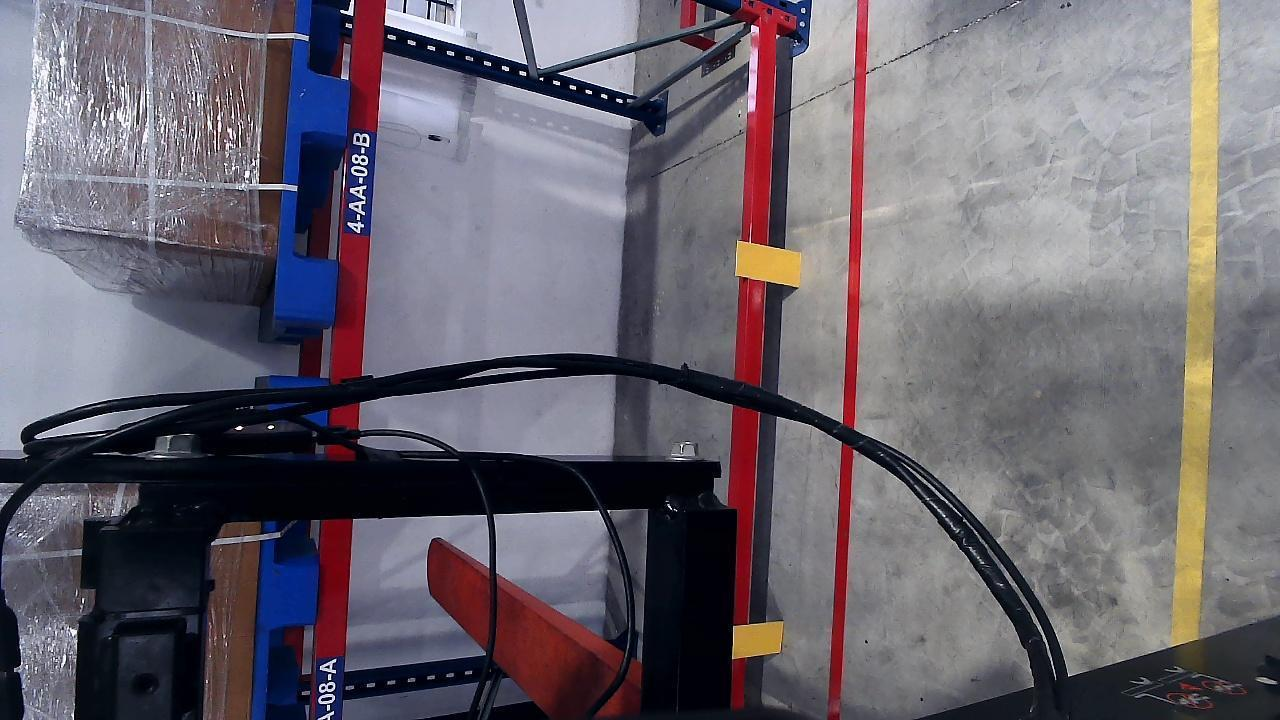red_line: (827, 0, 869, 711)
yellow_line: (1173, 0, 1221, 652)
